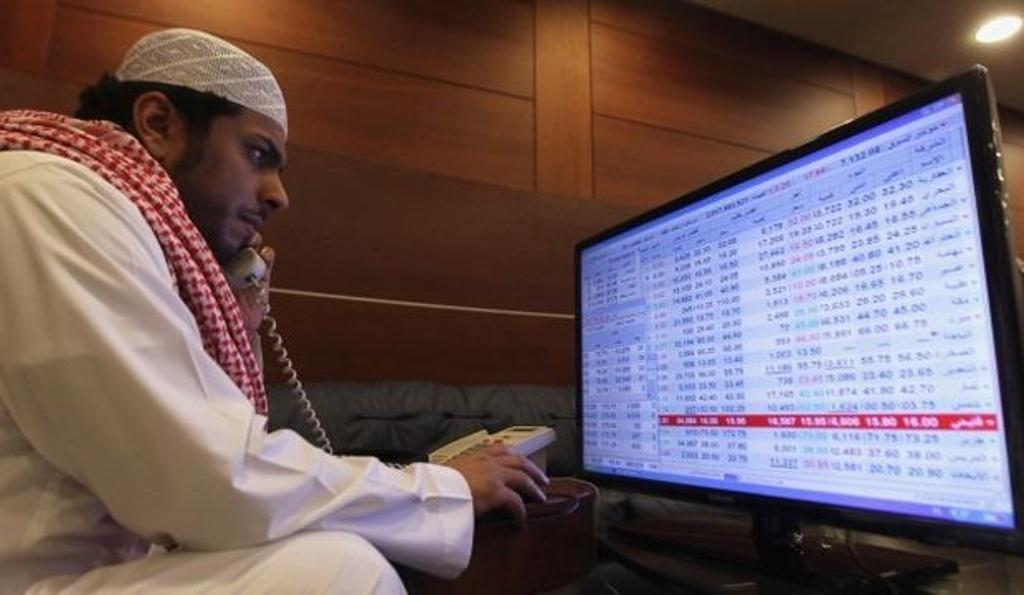face: (187, 99, 293, 259)
